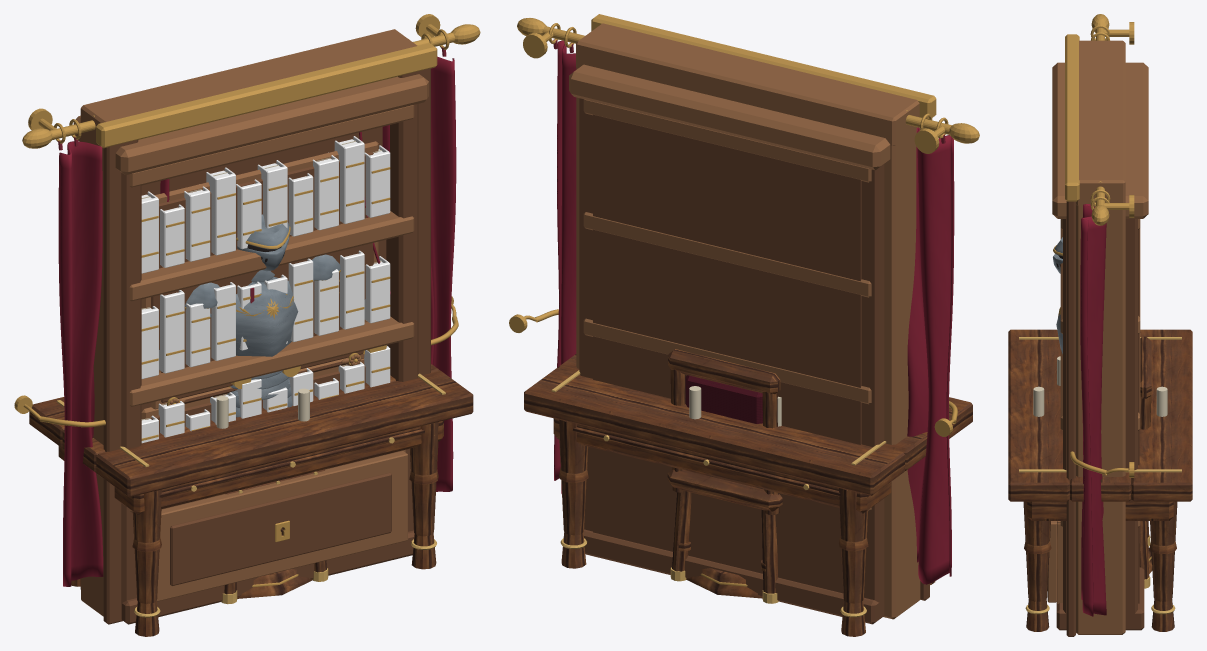
Rendered from interior-furnishings.glb.
3 renders of one model, left to right at view 1: azimuth 30°, elevation 25°; view 2: azimuth 150°, elevation 25°; view 3: azimuth 270°, elevation 25°, orthographic. The views are drawn at different scales.
Parts seen in each view (by area): view 1: Bookcase_LibraryBindingAtlas, DiningTable_DiningWalnut, Bookcase_WalnutHighlight, Curtain_WineVelvetNap, Bookcase_Walnut, Cabinet door inset, DoorDouble_Walnut, DoorDouble_WalnutHighlight, Cabinet door, Crown.001, ClockworkArmor_Burnished harness steel, Curtain_AntiqueBrass (+13 smaller); view 2: Bookcase_Walnut, DiningTable_DiningWalnut, DoorDouble_WalnutHighlight, Curtain_WineVelvetNap, Bookcase_WalnutHighlight, DiningChair_DiningWalnut, DoorArched_WalnutHighlight, Curtain_AntiqueBrass, Crown.001, DiningChair_DiningUpholstery, Octagonal display plinth, DiningTable_DiningPolishedBrass; view 3: DiningTable_DiningWalnut, DoorDouble_WalnutHighlight, Curtain_WineVelvetNap, Bookcase_Walnut, Bookcase_WalnutHighlight, DoorArched_WalnutHighlight, DoorDouble_Walnut, Crown.001, Curtain_AntiqueBrass, DiningChair_DiningWalnut, DiningTable_DiningPolishedBrass, Candelabrum_ClockIvory (+1 smaller).
Boxes of the visible parts, x1,y1,x2,y2 form: Bookcase_LibraryBindingAtlas: (141,136,390,443); DiningTable_DiningWalnut: (29,364,473,636); Bookcase_WalnutHighlight: (73,74,428,512); Curtain_WineVelvetNap: (58,56,456,586); Bookcase_Walnut: (80,104,418,624); Cabinet door inset: (170,472,391,585); DoorDouble_Walnut: (103,68,430,624); DoorDouble_WalnutHighlight: (80,29,417,615); Cabinet door: (156,451,407,601); Crown.001: (96,43,437,148); ClockworkArmor_Burnished harness steel: (227,270,298,417); Curtain_AntiqueBrass: (14,14,480,427); Bookcase_Walnut: (579,98,884,624); DiningTable_DiningWalnut: (524,354,972,636); DoorDouble_WalnutHighlight: (576,23,920,619); Curtain_WineVelvetNap: (554,40,954,584); Bookcase_WalnutHighlight: (569,64,890,510); DiningChair_DiningWalnut: (667,349,782,593); DoorArched_WalnutHighlight: (894,258,919,618); Curtain_AntiqueBrass: (509,18,979,436); Crown.001: (591,14,936,119); DiningChair_DiningUpholstery: (685,375,762,423); Octagonal display plinth: (686,568,762,598); DiningTable_DiningPolishedBrass: (551,370,886,617); DiningTable_DiningWalnut: (1008,329,1192,631); DoorDouble_WalnutHighlight: (1076,40,1125,634); Curtain_WineVelvetNap: (1080,204,1106,616); Bookcase_Walnut: (1056,219,1144,630); Bookcase_WalnutHighlight: (1052,62,1148,603); DoorArched_WalnutHighlight: (1078,320,1122,634); DoorDouble_Walnut: (1066,201,1075,636); Crown.001: (1065,34,1079,201); Curtain_AntiqueBrass: (1070,14,1134,477); DiningChair_DiningWalnut: (1057,336,1151,579); DiningTable_DiningPolishedBrass: (1019,337,1181,614); Candelabrum_ClockIvory: (1033,356,1167,416).
Size of the model in its own units: 2.31 by 2.43 by 0.88.
Materials: 15 (3 with a texture image).
